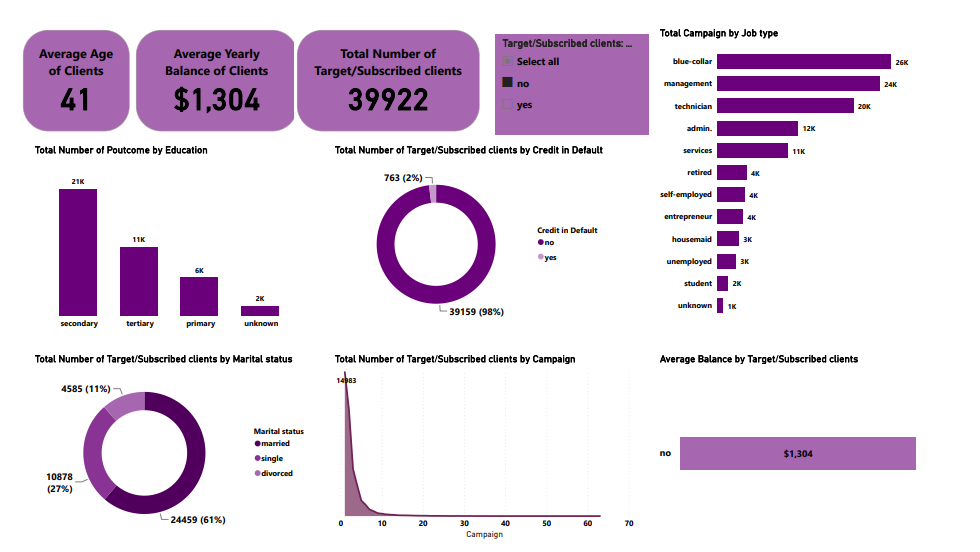

This screenshot's page, from the dashboard's own definition file:
{"tool":"powerbi","page":{"name":"Page 1","canvas":[1600,900],"ordinal":0},"visuals":[{"type":"cardVisual","fields":{"Data":["Avg(bank-full.Age)"]},"box":[0,11.9,194,185.1],"z":0},{"type":"columnChart","fields":{"Category":["bank-full.Education"],"Y":["CountNonNull(bank-full.Poutcome)"]},"box":[20.9,213.4,477.6,326.9],"z":1000},{"type":"barChart","fields":{"Category":["bank-full.Job"],"Y":["Sum(bank-full.Campaign)"]},"box":[1098.5,11.9,456.7,513.4],"z":2000},{"type":"cardVisual","fields":{"Data":["Avg(bank-full.Balance)"]},"box":[194,11.9,289.6,185.1],"z":3000},{"type":"donutChart","fields":{"Category":["bank-full.Marital status"],"Y":["CountNonNull(bank-full.Y)"]},"box":[20.7,574.1,496.6,325.9],"z":4000},{"type":"stackedAreaChart","fields":{"Category":["bank-full.Campaign"],"Y":["CountNonNull(bank-full.Target/Subscribed clients)"]},"box":[537.3,574.6,526.9,325.4],"z":5000},{"type":"funnel","title":"Average Balance by Target/Subscribed clients","fields":{"Category":["bank-full.Subscribed clients"],"Y":["Avg(bank-full.Balance)"]},"box":[1098.3,574.1,456.9,325.9],"z":6000},{"type":"slicer","fields":{"Values":["bank-full.Subscribed clients"]},"box":[819.4,23.9,264.2,173.1],"z":7000},{"type":"donutChart","fields":{"Category":["bank-full.Credit in Default"],"Y":["CountNonNull(bank-full.Subscribed clients)"]},"box":[537.3,213.4,485.1,326.9],"z":8000},{"type":"cardVisual","fields":{"Data":["bank-full.Measure 2"]},"box":[471.6,11.9,325.4,185.1],"z":9000}]}

Visuals, with their boxes in screenshot pixels (x1, y1, x2, y2), scaled from the page's 1600x900 canvas onto the 980x552 screenshot:
cardVisual - Avg(bank-full.Age): {"left": 0, "top": 7, "right": 119, "bottom": 121}
columnChart - bank-full.Education x CountNonNull(bank-full.Poutcome): {"left": 13, "top": 131, "right": 305, "bottom": 331}
barChart - bank-full.Job x Sum(bank-full.Campaign): {"left": 673, "top": 7, "right": 953, "bottom": 322}
cardVisual - Avg(bank-full.Balance): {"left": 119, "top": 7, "right": 296, "bottom": 121}
donutChart - bank-full.Marital status x CountNonNull(bank-full.Y): {"left": 13, "top": 352, "right": 317, "bottom": 551}
stackedAreaChart - bank-full.Campaign x CountNonNull(bank-full.Target/Subscribed clients): {"left": 329, "top": 352, "right": 652, "bottom": 551}
"Average Balance by Target/Subscribed clients" funnel: {"left": 673, "top": 352, "right": 953, "bottom": 551}
slicer - bank-full.Subscribed clients: {"left": 502, "top": 15, "right": 664, "bottom": 121}
donutChart - bank-full.Credit in Default x CountNonNull(bank-full.Subscribed clients): {"left": 329, "top": 131, "right": 626, "bottom": 331}
cardVisual - bank-full.Measure 2: {"left": 289, "top": 7, "right": 488, "bottom": 121}
